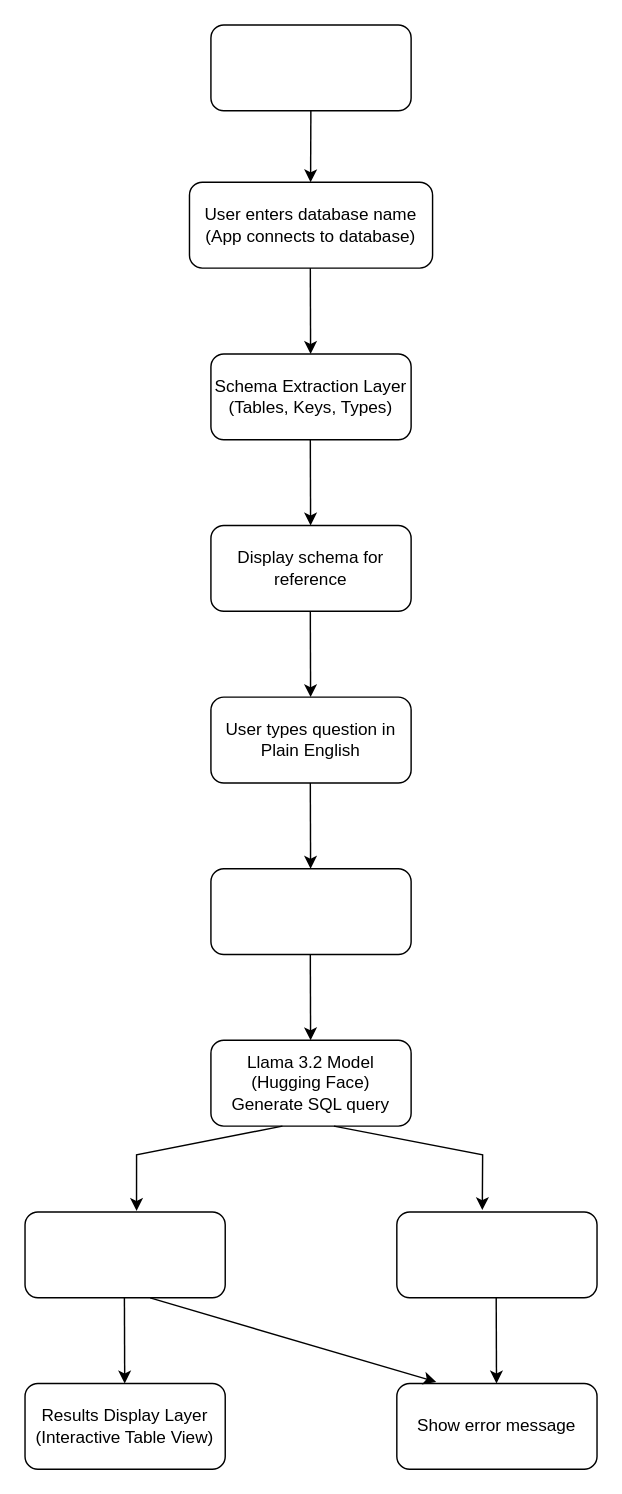
The diagram is 622 pixels wide and 1494 high, and some of its shapes have lost their labels. The shapes that lost their labels are listed below. From the top down, each one's centre as x and y in pixels, then its label:
At point 310,67: "User selects DB platform (MySQL / PostgreSQL)".
At point 310,911: "Send question and schema to Llama model via API".
At point 124,1254: "Execute SQL query on database".
At point 496,1254: "Error: No valid SQL generated".
